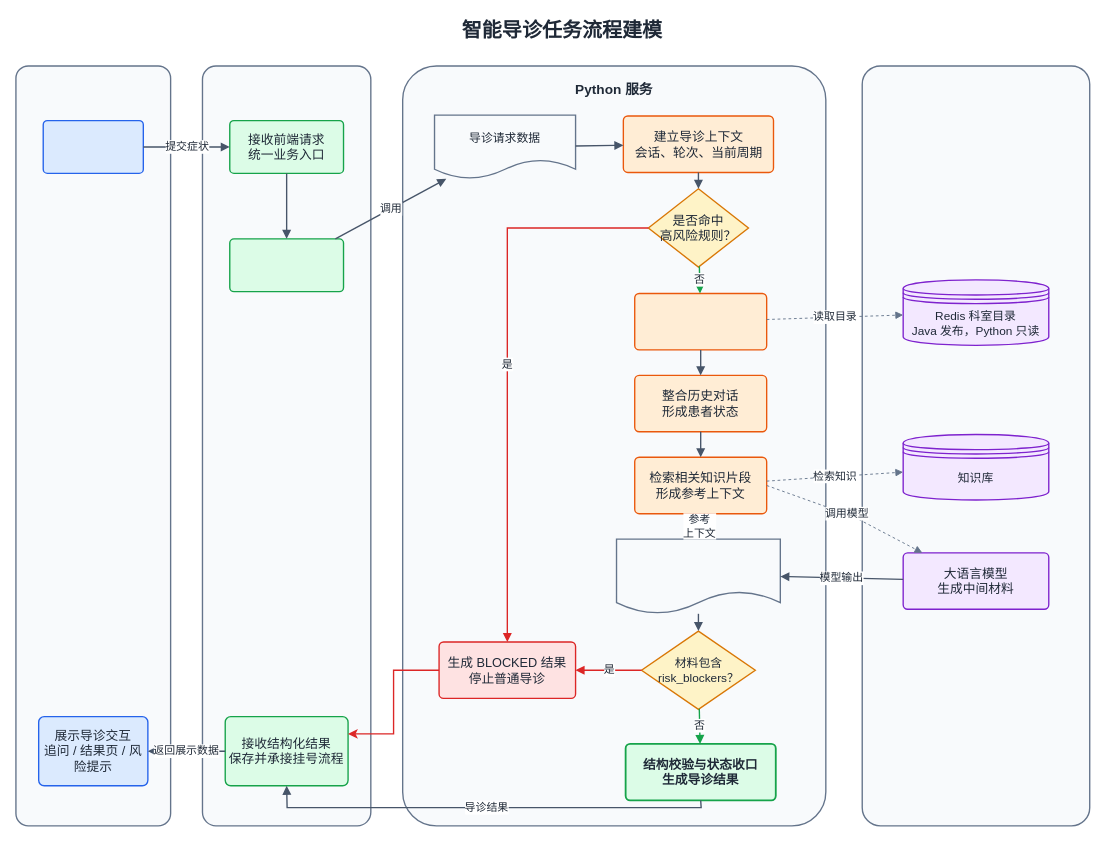
Some shapes in this 1107 by 842 pixel diagram are drawn without their labels. Here are the shapes that lost their labels. From the top down, the box of each, then its label:
(42, 119, 144, 174): 患者输入 症状描述
(229, 238, 344, 292): 按需调用 Python 服务
(634, 292, 767, 350): 读取并校验 科室目录
(15, 65, 171, 826): 前端
(201, 65, 371, 826): Java 服务
(861, 65, 1090, 826): 数据与模型资源
(615, 538, 781, 614): 导诊判断材料 主诉、缺失信息、候选科室、风险线索
